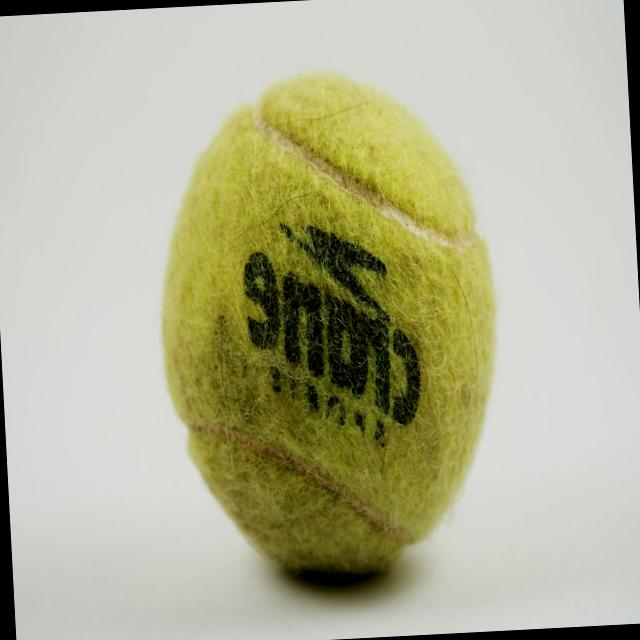Tennis Ball: (151, 64, 512, 583)
